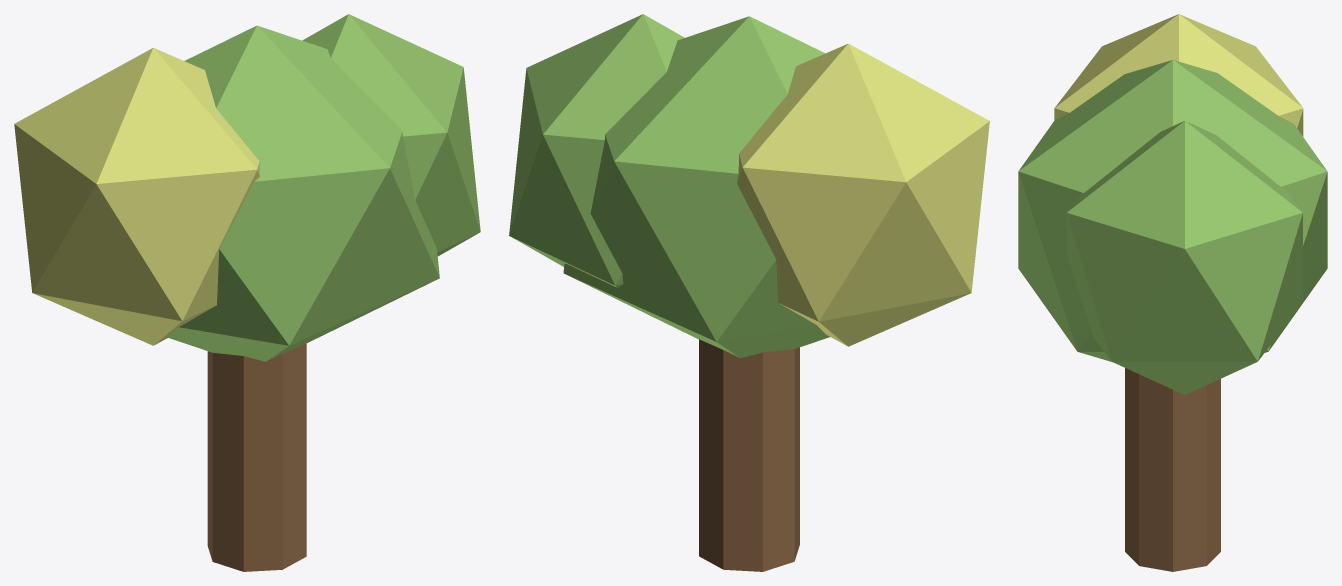
Rendered from tree_broad_06.glb.
3 renders of one model, left to right at view 1: azimuth 30°, elevation 25°; view 2: azimuth 150°, elevation 25°; view 3: azimuth 270°, elevation 25°, orthographic. The views are drawn at different scales.
Visible parts, largest first — view 1: BroadTree_06_CrownA.001, BroadTree_06_CrownB.001, BroadTree_06_Trunk.001, BroadTree_06_CrownC.001; view 2: BroadTree_06_CrownB.001, BroadTree_06_CrownA.001, BroadTree_06_CrownC.001, BroadTree_06_Trunk.001; view 3: BroadTree_06_CrownC.001, BroadTree_06_CrownA.001, BroadTree_06_Trunk.001, BroadTree_06_CrownB.001.
Part boxes in pixels (x1,y1,x2,y2): BroadTree_06_CrownA.001: (168,25,439,361); BroadTree_06_CrownB.001: (14,47,259,345); BroadTree_06_Trunk.001: (207,343,306,571); BroadTree_06_CrownC.001: (302,14,480,256); BroadTree_06_CrownB.001: (737,43,989,346); BroadTree_06_CrownA.001: (563,16,829,358); BroadTree_06_CrownC.001: (509,14,684,287); BroadTree_06_Trunk.001: (699,339,799,571); BroadTree_06_CrownC.001: (1066,121,1302,394); BroadTree_06_CrownA.001: (1018,60,1327,361); BroadTree_06_Trunk.001: (1125,368,1220,571); BroadTree_06_CrownB.001: (1054,14,1303,136).
Bounding box in the file's own units: 1.58 × 1.83 × 1.04.
